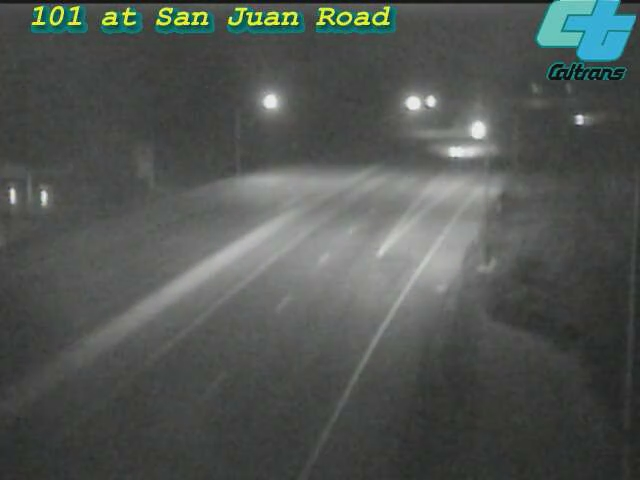vehicle: (555, 95, 605, 145), (454, 103, 504, 153), (440, 126, 490, 176)
